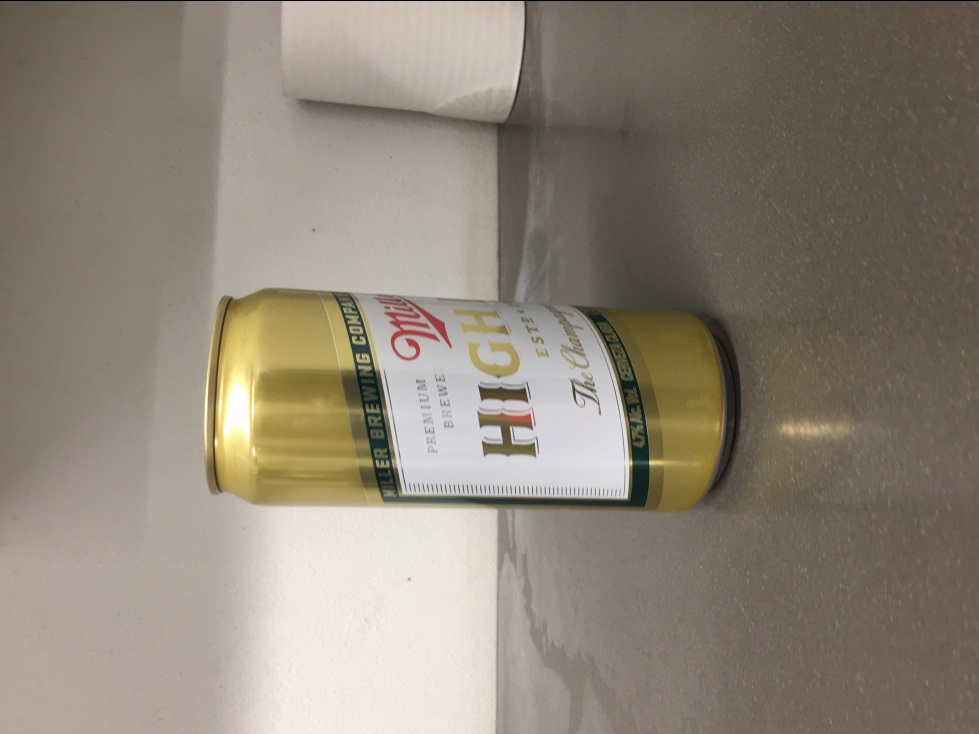miller: (199, 284, 738, 513)
